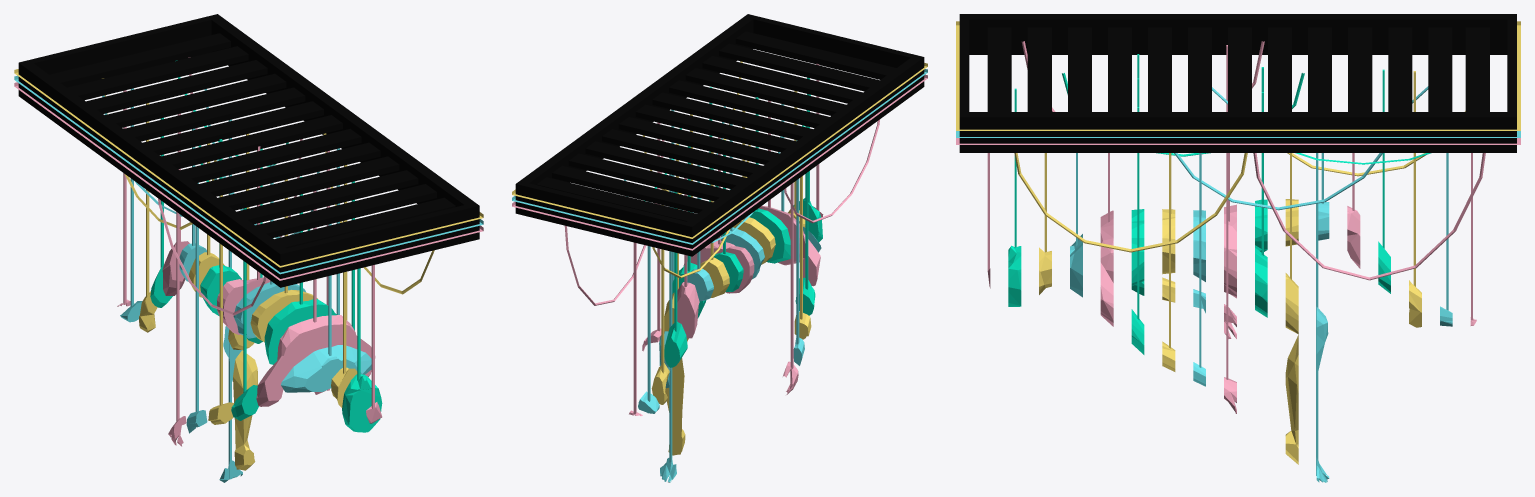
The model's file is testitest.glb.
3 views of the same model, side by side, from view 1: azimuth 30°, elevation 25°; view 2: azimuth 150°, elevation 25°; view 3: azimuth 270°, elevation 25° (orthographic). The views are drawn at different scales.
Parts seen in each view (by area): view 1: Boole.003, Cube.27 4, Cube.27 9, Cube.27 10, Cube.27 1, Cube.27 8, Cube.27 3, Cube.27 2, Cube.27 7, Cube.27 1.001, Cube.27 11, Cube.27 5 (+28 smaller); view 2: Boole.003, Cube.27 12, Cube.27 2, Cube.27 6, Cube.27 5, Cube.27 3, Cube.27 9, Cube.27 1, Cube.27 10, Cube.27 7, Cube.27 4, Cube.27 11 (+24 smaller); view 3: Boole.003, Cube.27 1, Cube.27 11, Cube.27 12, Cube.27 2, Cube.27 3, Cube.27 1.001, M3D_Male.005, Cube.27 10, Cube.27 4, Cube.27 5, Cube.27 6 (+22 smaller).
Part boxes in pixels (x1,y1,x2,y2): Boole.003: (18, 14, 479, 287); Cube.27 4: (124, 87, 305, 141); Cube.27 9: (218, 156, 399, 210); Cube.27 10: (237, 170, 418, 224); Cube.27 1: (67, 46, 248, 100); Cube.27 8: (199, 142, 380, 196); Cube.27 3: (105, 73, 286, 127); Cube.27 2: (86, 60, 267, 113); Cube.27 7: (180, 128, 361, 182); Cube.27 1.001: (49, 33, 230, 87); Cube.27 11: (255, 184, 436, 237); Cube.27 5: (142, 101, 323, 155); Boole.003: (515, 14, 924, 256); Cube.27 12: (735, 31, 896, 79); Cube.27 2: (568, 153, 729, 201); Cube.27 6: (635, 104, 796, 152); Cube.27 5: (618, 117, 779, 164); Cube.27 3: (585, 141, 745, 188); Cube.27 9: (685, 68, 846, 115); Cube.27 1: (552, 165, 712, 213); Cube.27 10: (702, 55, 862, 103); Cube.27 7: (652, 92, 812, 140); Cube.27 4: (602, 129, 762, 176); Cube.27 11: (719, 43, 879, 91); Boole.003: (959, 14, 1516, 152); Cube.27 1: (1428, 27, 1452, 111); Cube.27 11: (1027, 27, 1051, 111); Cube.27 12: (987, 27, 1011, 111); Cube.27 2: (1388, 27, 1412, 111); Cube.27 3: (1348, 27, 1372, 111); Cube.27 1.001: (1465, 27, 1489, 111); M3D_Male.005: (1285, 273, 1298, 464); Cube.27 10: (1068, 27, 1091, 111); Cube.27 4: (1308, 27, 1331, 111); Cube.27 5: (1268, 27, 1291, 111); Cube.27 6: (1228, 27, 1251, 111).
Size of the model in its own units: 4.72 by 8.46 by 10.66.
